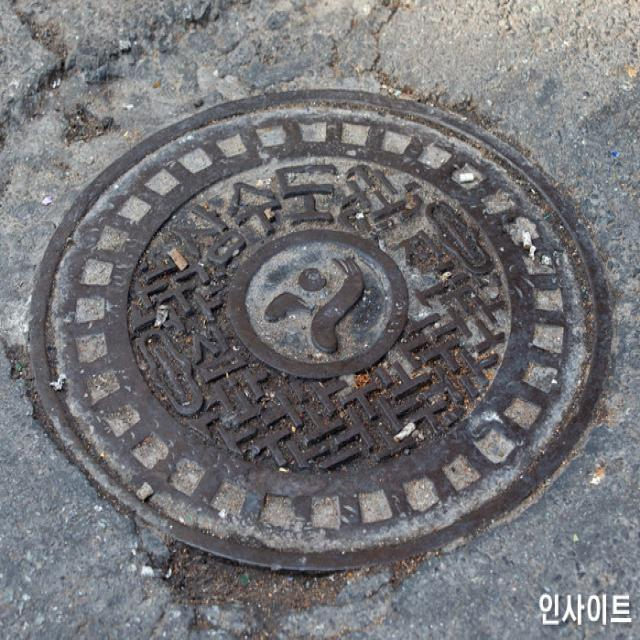manhole: (27, 88, 614, 580)
